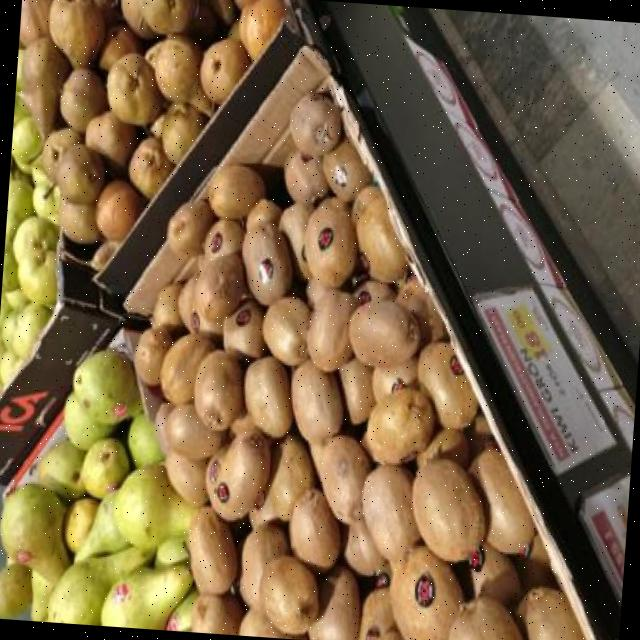kiwi: (411, 458, 485, 561), (390, 545, 463, 640), (469, 445, 534, 551), (362, 463, 420, 560), (209, 429, 271, 519), (417, 340, 478, 426), (366, 387, 434, 463), (318, 433, 371, 523), (349, 300, 420, 367), (259, 555, 319, 634), (305, 198, 357, 287), (356, 194, 406, 282), (290, 359, 343, 442), (289, 486, 340, 571), (187, 505, 237, 591), (306, 287, 356, 371), (241, 520, 289, 607), (242, 222, 292, 305), (193, 348, 244, 429), (268, 433, 315, 520), (159, 332, 215, 403), (244, 355, 293, 436), (309, 565, 360, 640), (517, 587, 585, 640), (194, 252, 246, 321), (166, 403, 227, 459), (397, 276, 446, 345), (469, 541, 521, 606), (289, 92, 341, 155), (207, 163, 265, 219), (449, 596, 522, 640), (264, 295, 310, 362), (323, 138, 371, 200), (167, 198, 214, 256), (278, 201, 313, 277), (222, 298, 265, 357), (516, 534, 558, 592), (133, 326, 173, 385), (342, 518, 384, 574), (284, 150, 329, 202), (359, 587, 403, 640), (339, 356, 374, 422), (165, 450, 207, 505), (192, 591, 243, 635), (416, 427, 469, 467), (183, 285, 222, 338), (374, 355, 417, 401), (238, 608, 305, 636), (203, 218, 243, 264), (249, 466, 277, 528), (152, 281, 183, 335), (351, 183, 381, 226), (205, 444, 228, 499), (467, 411, 495, 456), (245, 197, 283, 230), (353, 278, 395, 305), (177, 273, 196, 321), (155, 402, 172, 454), (360, 428, 382, 461), (230, 410, 257, 435), (305, 276, 327, 306), (351, 253, 369, 288), (308, 439, 326, 472), (238, 565, 251, 606), (374, 560, 390, 587), (196, 252, 208, 272)
